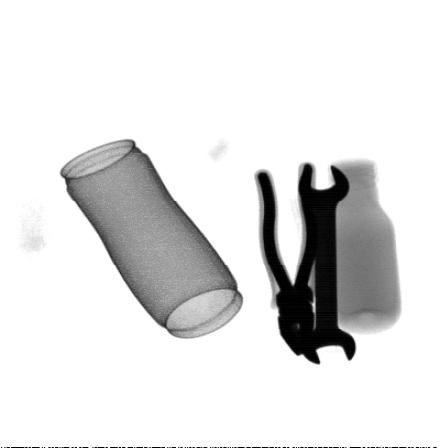Pliers: (252, 161, 322, 356)
Wrench: (298, 164, 358, 365)
